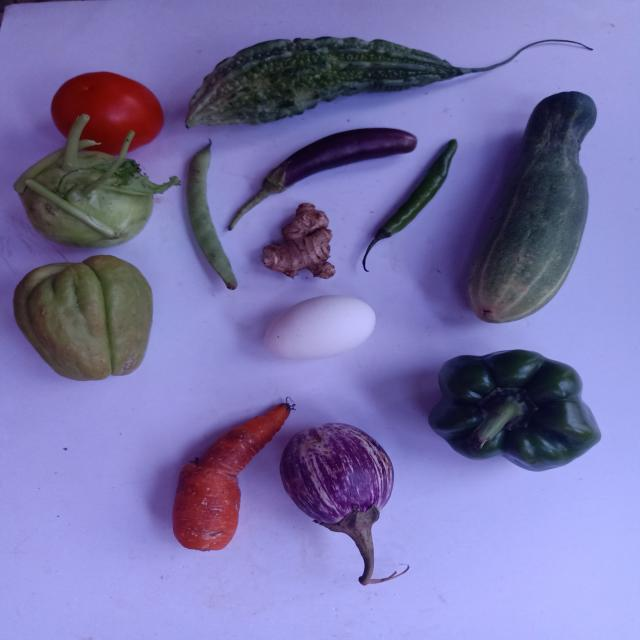Beans: (186, 142, 237, 290), (323, 73, 326, 77)
Bitter Gourd: (185, 36, 463, 126)
Capsicum: (429, 350, 601, 471)
Carrot: (172, 404, 291, 551)
Chayote: (12, 255, 151, 381)
Cucumber: (468, 91, 597, 323)
Egg: (264, 295, 376, 359)
Eggplant: (279, 424, 409, 586)
Ginger: (228, 127, 416, 229), (262, 203, 335, 278)
Green Chilly: (363, 139, 457, 270)
Tomato: (49, 71, 163, 155)
Turnip: (13, 113, 178, 248), (77, 331, 79, 333)
